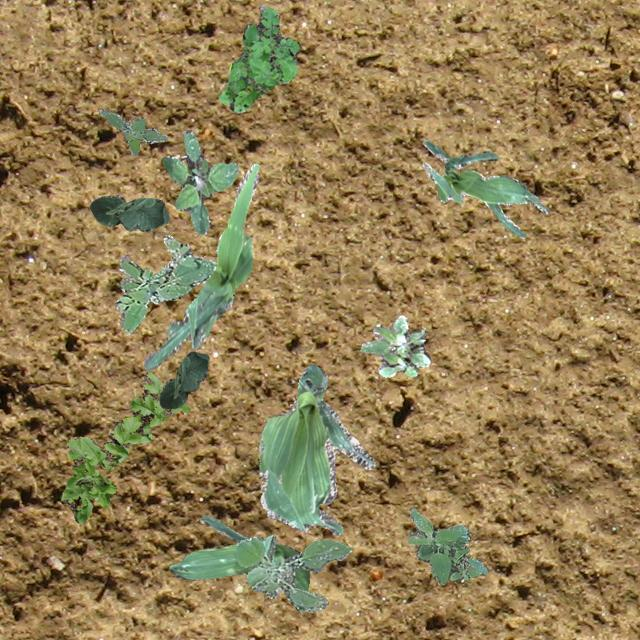crop: (142, 162, 258, 370), (258, 363, 374, 534), (420, 138, 548, 238), (168, 514, 308, 590), (158, 350, 208, 408), (88, 194, 168, 230)
weed: (59, 370, 190, 522), (113, 234, 214, 334), (235, 534, 352, 612), (218, 3, 300, 112), (160, 128, 238, 234), (407, 506, 488, 584), (358, 314, 429, 376), (98, 109, 166, 154)
